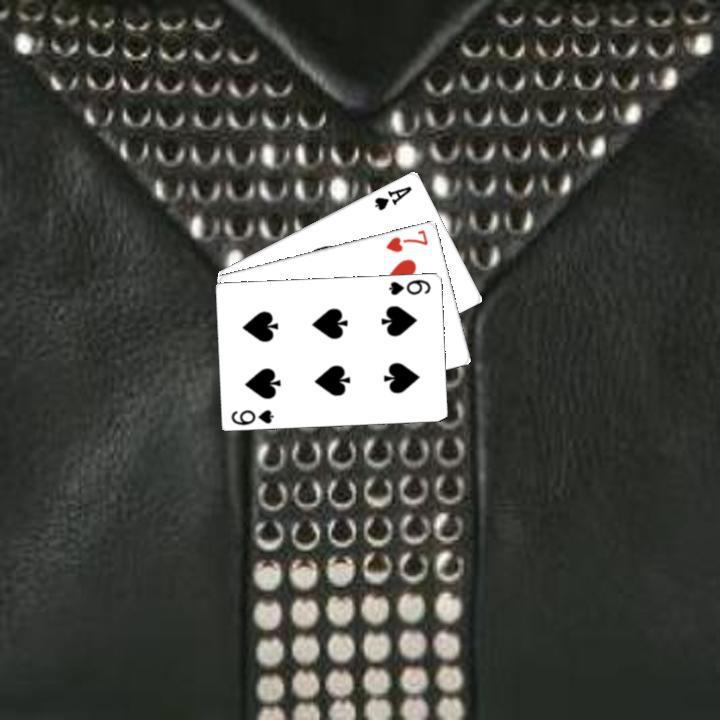6: (384, 275, 433, 296), (227, 405, 276, 426)
7: (381, 225, 430, 254)
A: (370, 181, 414, 212)
